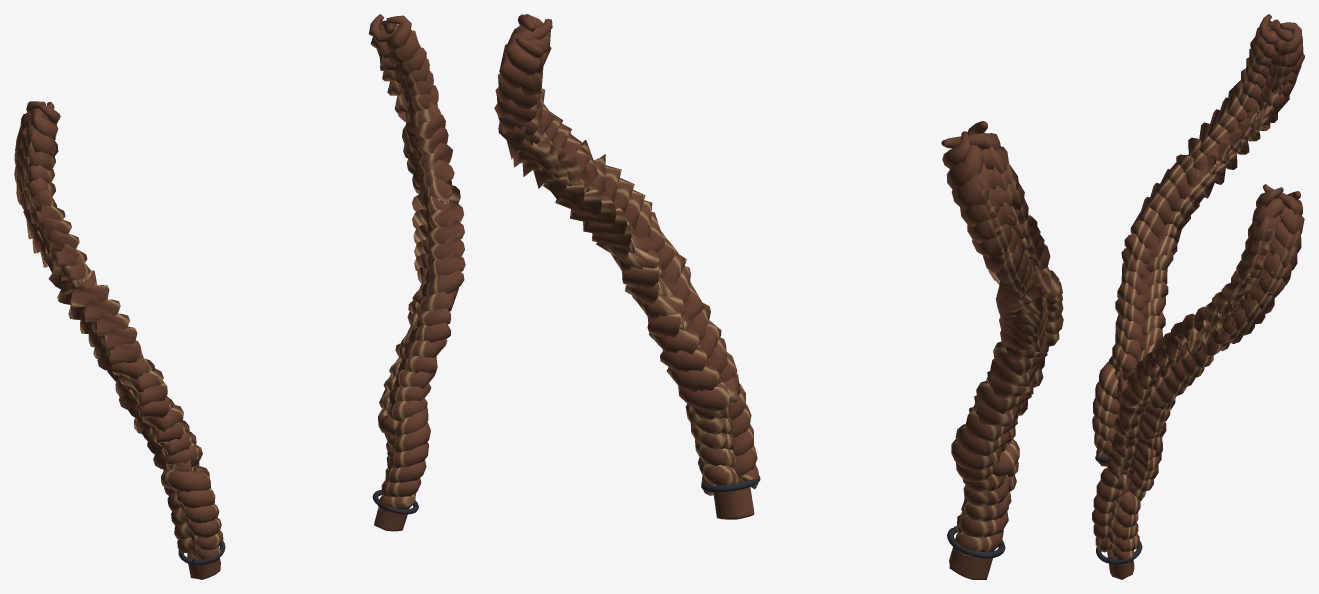
File: Highlights-977ab3b6ca6d252-hair.glb
3 views of the same model, side by side, from view 1: azimuth 30°, elevation 25°; view 2: azimuth 150°, elevation 25°; view 3: azimuth 270°, elevation 25° (orthographic). The views are drawn at different scales.
Parts seen in each view (by area): view 1: 226 hairLengths / Hair / chestnut226, 226 hairLengths / Hair / ties226; view 2: 226 hairLengths / Hair / chestnut226, 226 hairLengths / Hair / ties226; view 3: 226 hairLengths / Hair / chestnut226, 226 hairLengths / Hair / ties226.
Boxes of the visible parts, x1,y1,x2,y2 form: 226 hairLengths / Hair / chestnut226: (14, 14, 465, 579); 226 hairLengths / Hair / ties226: (178, 490, 418, 564); 226 hairLengths / Hair / chestnut226: (494, 14, 1063, 579); 226 hairLengths / Hair / ties226: (701, 476, 1005, 558); 226 hairLengths / Hair / chestnut226: (1092, 14, 1304, 579); 226 hairLengths / Hair / ties226: (1095, 455, 1142, 564).
Size of the model in its own units: 1.03 by 1.05 by 0.4743.
2 materials, 1 textured.
